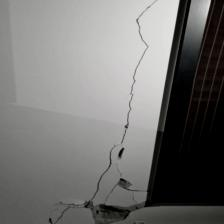Medium: (79, 30, 150, 205)
